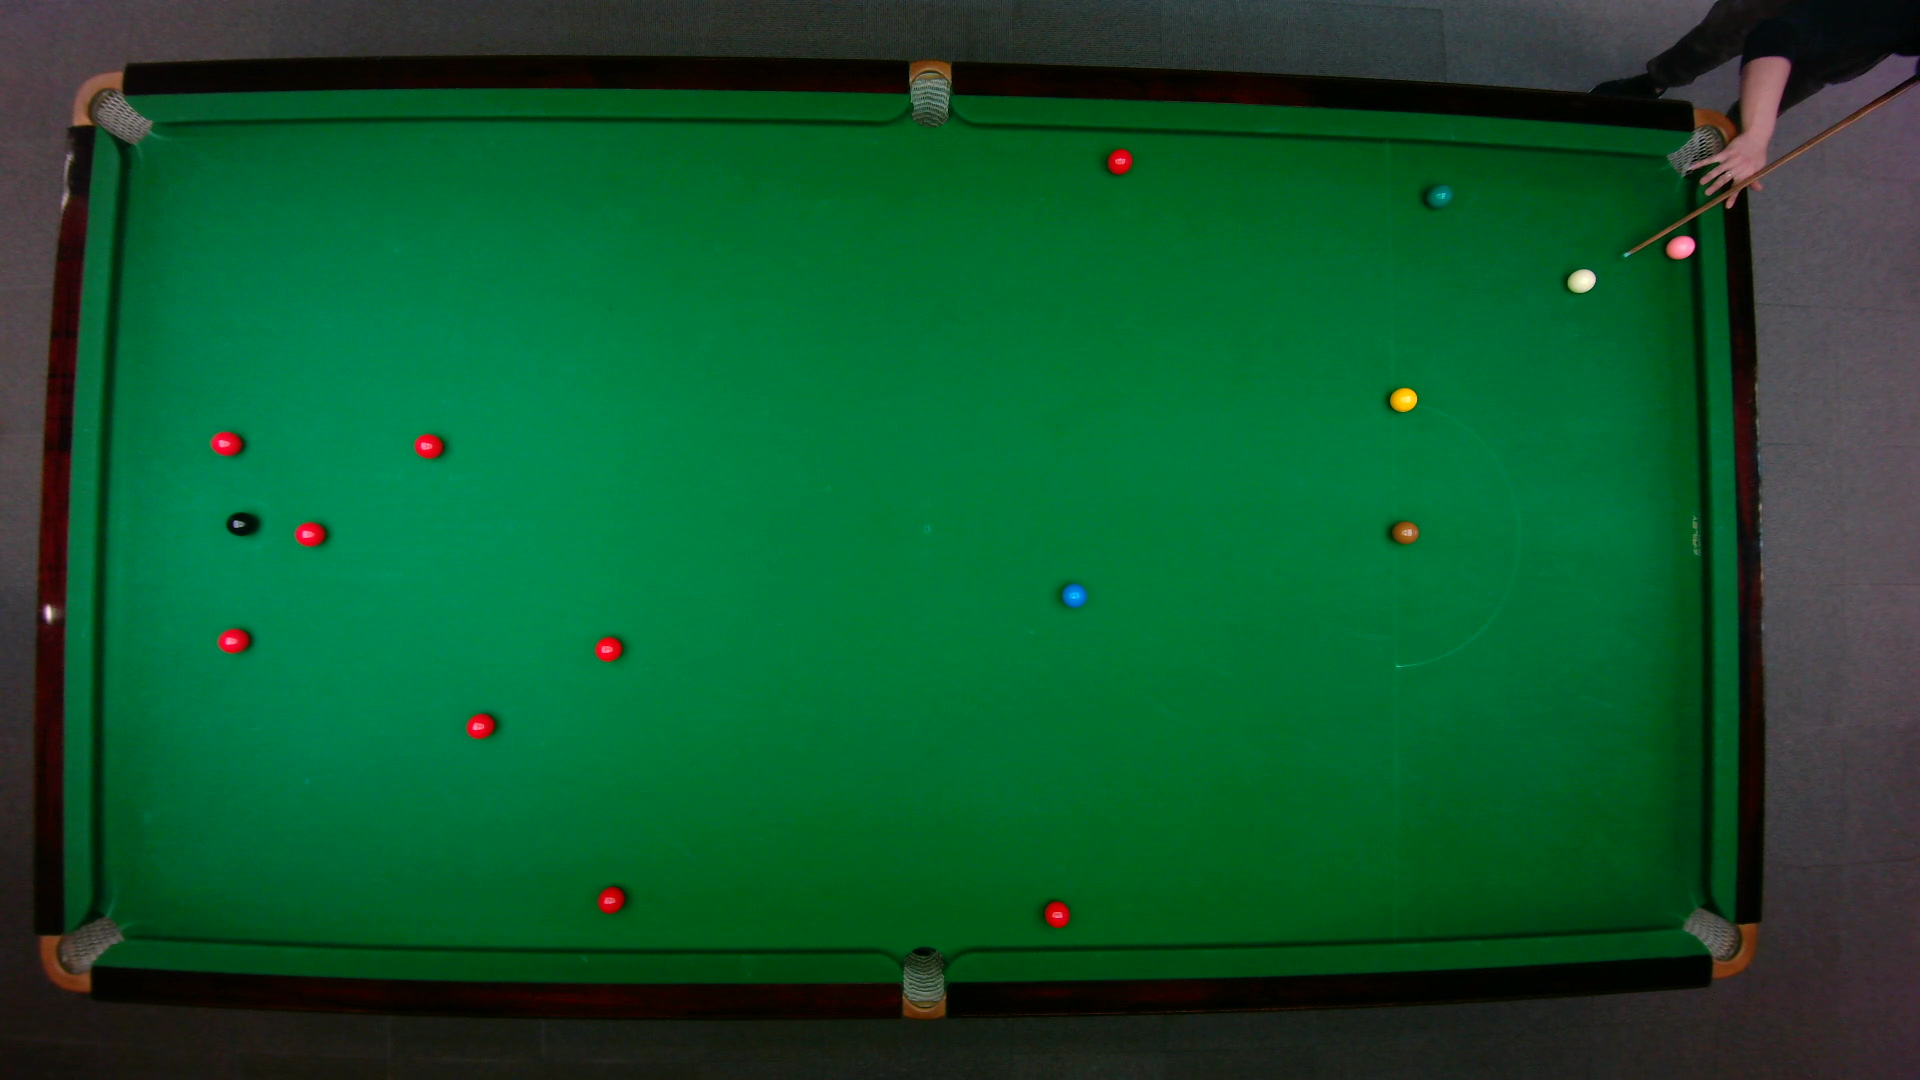bag: (37, 914, 125, 992), (69, 69, 153, 145), (1677, 905, 1756, 978), (1664, 107, 1741, 175), (899, 943, 944, 1021), (909, 57, 949, 128)
black: (223, 509, 257, 535)
blue: (1059, 582, 1087, 608)
brown: (1389, 520, 1419, 545)
cue: (1619, 74, 1917, 257)
green: (1423, 182, 1453, 208)
pink: (1663, 233, 1696, 258)
red: (214, 626, 251, 654), (208, 429, 244, 456), (291, 520, 326, 547), (595, 884, 625, 914), (463, 711, 495, 740), (1104, 146, 1133, 175), (593, 634, 622, 663), (411, 433, 443, 459), (1043, 899, 1071, 928)
white: (1565, 266, 1597, 293)
yellow: (1387, 385, 1418, 411)
zone: (1389, 400, 1520, 667)
